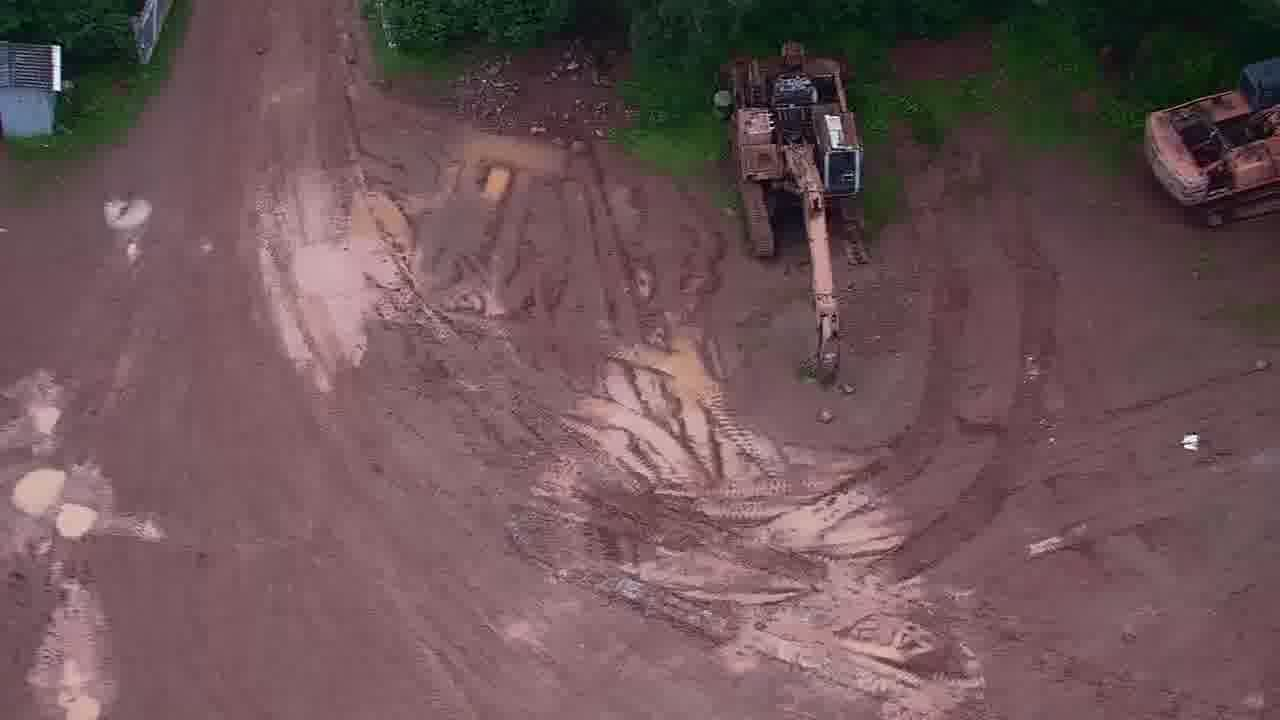HMV: (712, 34, 863, 385), (1143, 44, 1278, 233)
